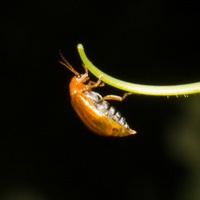insect: (59, 52, 135, 136)
